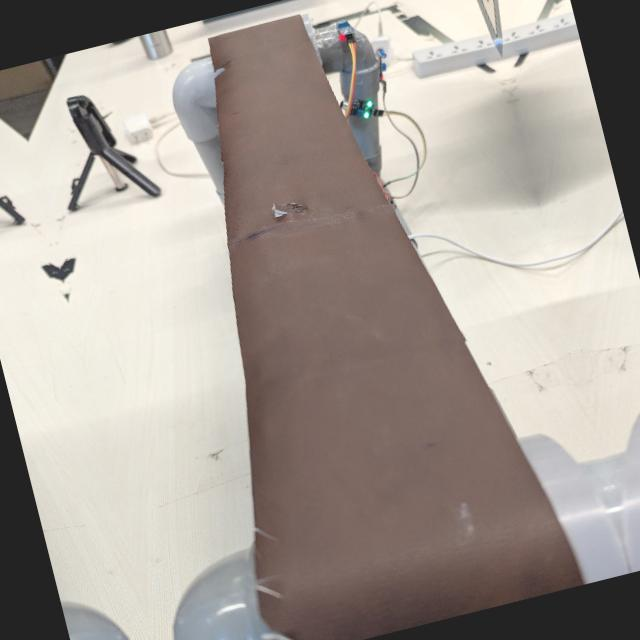joint_damage: (255, 187, 321, 236)
